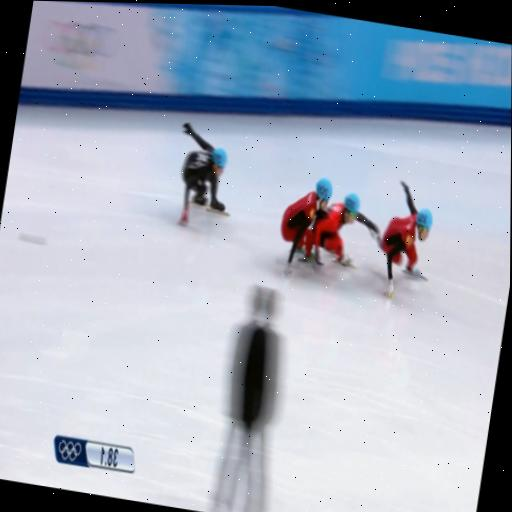Skater: (380, 182, 431, 298), (280, 178, 331, 276), (178, 123, 226, 224), (312, 194, 378, 267)
